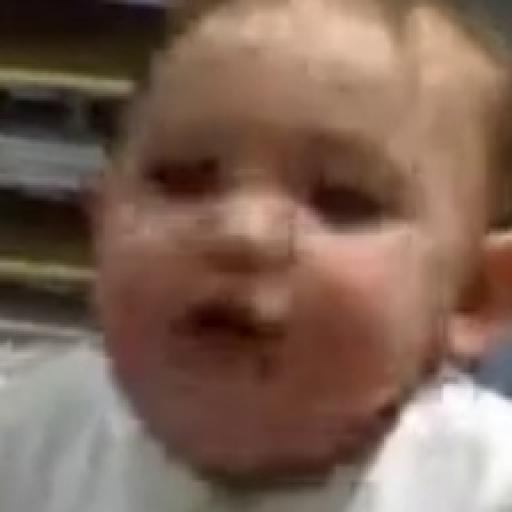Autism: (113, 38, 512, 510)
